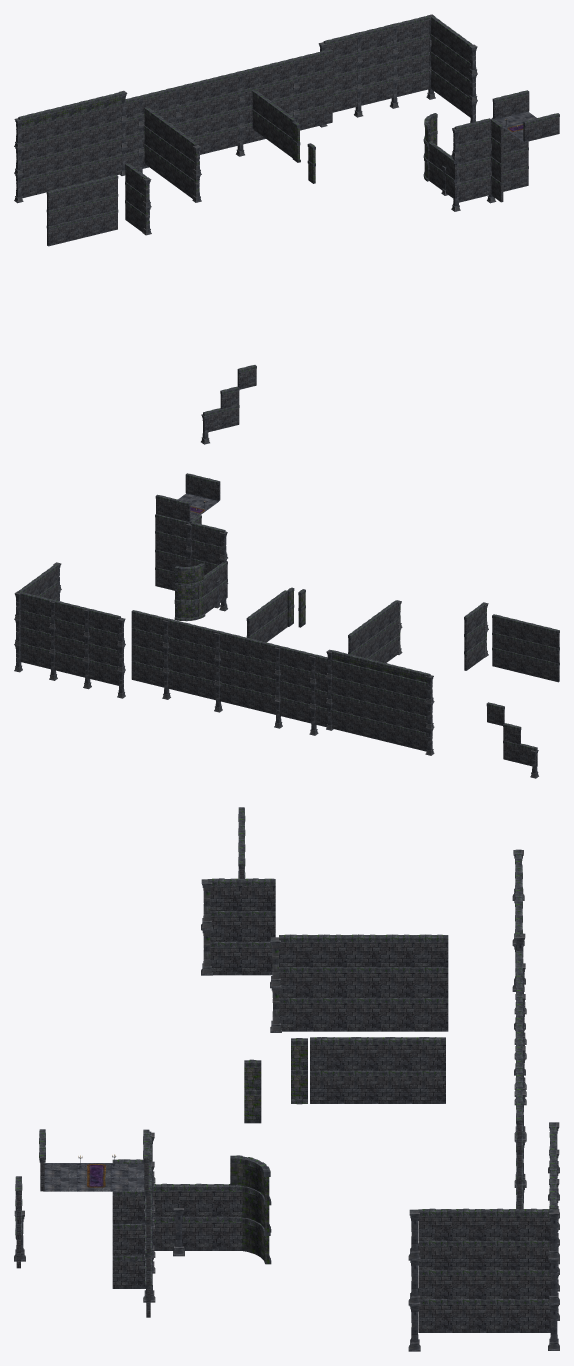
File: PT1Decoration.gltf
The picture shows the model from 3 angles, top to bottom: view 1: azimuth 30°, elevation 25°; view 2: azimuth 150°, elevation 25°; view 3: azimuth 270°, elevation 25°; orthographic projection. The views are drawn at different scales.
Visible parts, largest first — view 1: no part large enough to name; view 2: P_MOD_Wall_01_E_convex_med (×3); view 3: P_MOD_Wall_01_E_straight_med (×52), P_MOD_Wall_01_E_convex_med (×3).
Part boxes in pixels (bbox=[...]): P_MOD_Wall_01_E_convex_med (×3): bbox=[175, 567, 204, 618]; P_MOD_Wall_01_E_straight_med (×52): bbox=[112, 886, 550, 1332]; P_MOD_Wall_01_E_convex_med (×3): bbox=[230, 1163, 269, 1264].
Size of the model in its own units: 109 by 51.39 by 64.08.
6 materials, 6 textured.
